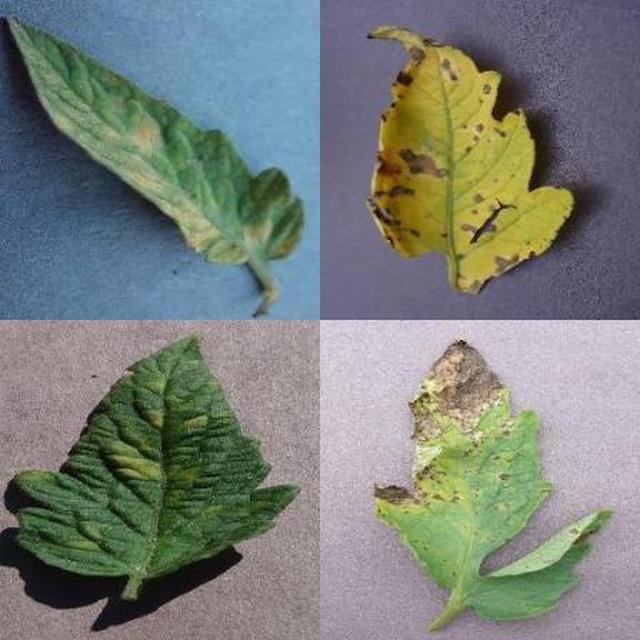Leaf Mold: (221, 200, 640, 640)
